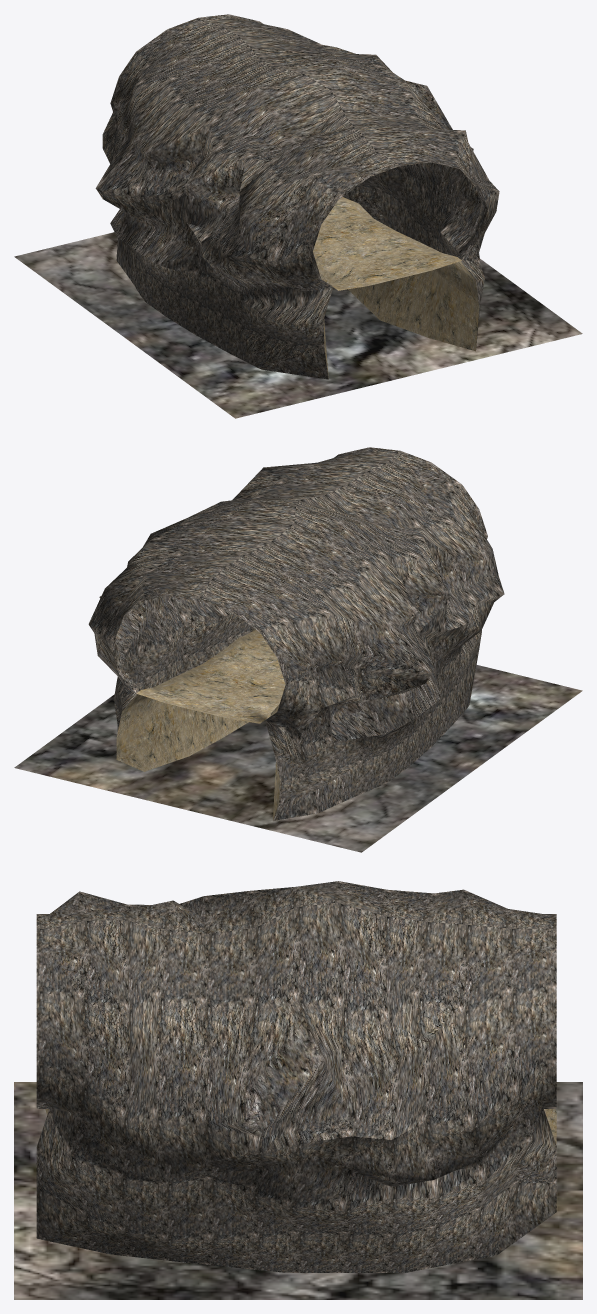
The model's file is pir_m_are_cav_hallWide200_ravine.fbx.
3 views of the same model, one above another, from view 1: azimuth 30°, elevation 25°; view 2: azimuth 150°, elevation 25°; view 3: azimuth 270°, elevation 25° (orthographic). The views are drawn at different scales.
Visible parts, largest first — view 1: hallWide200_wall, blackbox, bridge; view 2: hallWide200_wall, blackbox, bridge; view 3: hallWide200_wall, blackbox.
Boxes of the visible parts, box(x1,y1,x2,y2) form: hallWide200_wall: box(95, 14, 499, 379); blackbox: box(14, 232, 582, 418); bridge: box(313, 197, 479, 377); hallWide200_wall: box(88, 447, 504, 820); blackbox: box(14, 665, 582, 852); bridge: box(116, 628, 285, 820); hallWide200_wall: box(36, 881, 556, 1272); blackbox: box(14, 1082, 582, 1299).
Bounding box in the file's own units: 19835 × 12354 × 21879.
2 materials, 2 textured.
